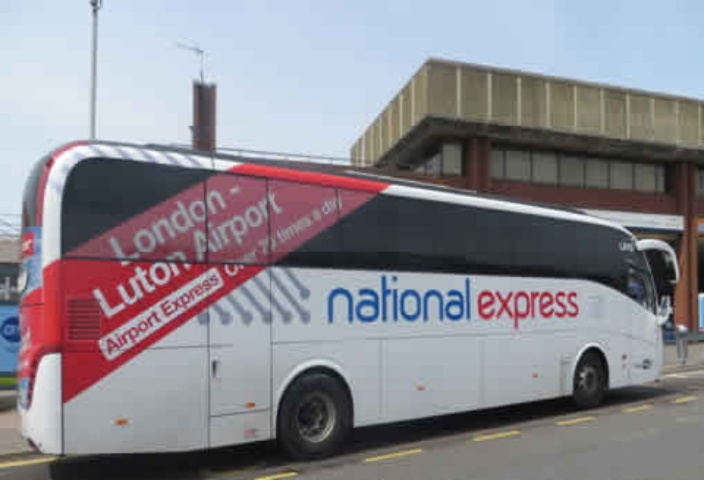bus: (6, 115, 690, 449)
